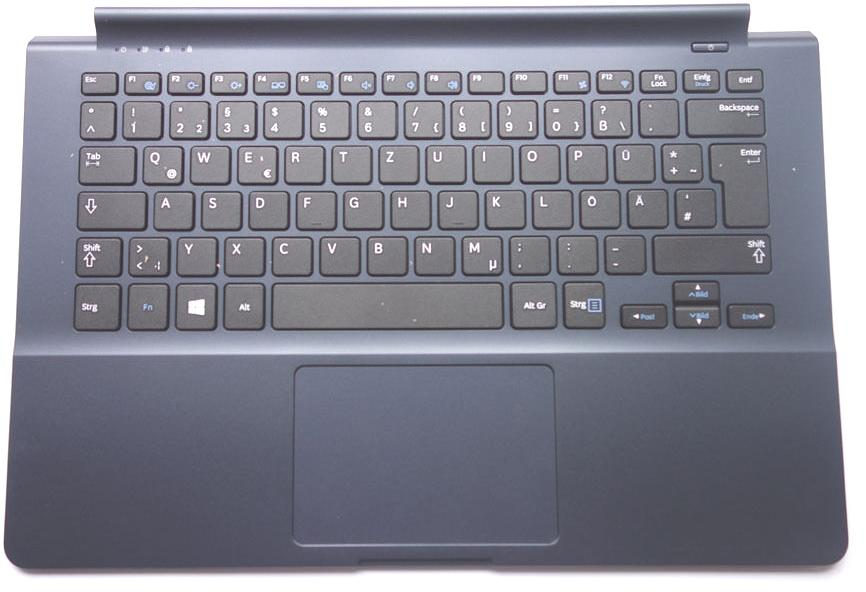0: (541, 96, 583, 136)
1: (119, 98, 160, 137)
2: (165, 97, 208, 137)
3: (212, 97, 254, 137)
4: (260, 97, 301, 137)
5: (306, 97, 348, 137)
6: (354, 97, 395, 137)
7: (400, 97, 442, 137)
8: (447, 97, 489, 137)
9: (494, 96, 536, 136)
a: (150, 188, 192, 228)
accent: (636, 95, 676, 135)
ae: (624, 186, 667, 226)
alt-left: (221, 280, 264, 329)
altgr-right: (507, 278, 555, 327)
b: (363, 233, 406, 274)
c: (268, 233, 311, 274)
caret: (77, 98, 113, 137)
comma: (505, 232, 548, 272)
d: (245, 187, 287, 228)
del: (684, 94, 764, 134)
e: (233, 142, 276, 183)
enter: (707, 139, 768, 227)
f: (292, 187, 334, 228)
g: (340, 187, 381, 228)
h: (387, 187, 429, 228)
hash: (671, 185, 714, 226)
i: (470, 141, 511, 181)
j: (434, 186, 476, 228)
k: (481, 186, 524, 228)
keyboard: (52, 57, 792, 347)
l: (529, 186, 571, 227)
less: (124, 233, 167, 275)
m: (458, 232, 500, 274)
minus: (600, 231, 643, 272)
n: (411, 233, 453, 274)
o: (516, 141, 558, 181)
oe: (576, 186, 619, 227)
p: (563, 141, 605, 181)
plus: (658, 139, 701, 180)
point: (553, 232, 596, 272)
q: (139, 142, 182, 183)
r: (281, 142, 323, 183)
s: (198, 188, 239, 228)
shift-left: (70, 233, 120, 275)
shift-lock: (73, 187, 144, 228)
shift-right: (649, 231, 770, 272)
space: (269, 278, 501, 328)
ss: (587, 95, 629, 136)
strg-left: (68, 280, 119, 330)
strg-right: (559, 277, 604, 327)
t: (328, 142, 369, 182)
tab: (75, 142, 133, 182)
u: (422, 141, 463, 182)
ue: (610, 140, 653, 181)
v: (316, 233, 358, 274)
w: (186, 142, 228, 183)
x: (221, 233, 263, 274)
y: (173, 234, 215, 275)
z: (375, 141, 417, 182)
